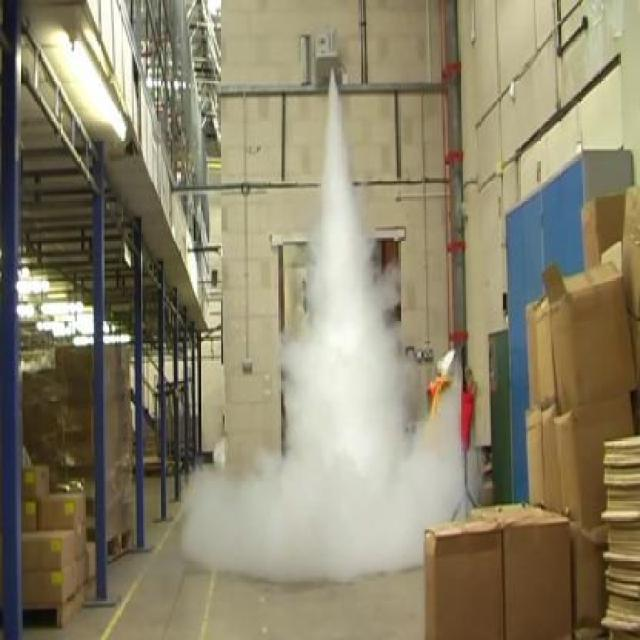fire: (274, 100, 412, 448), (180, 448, 482, 586)
